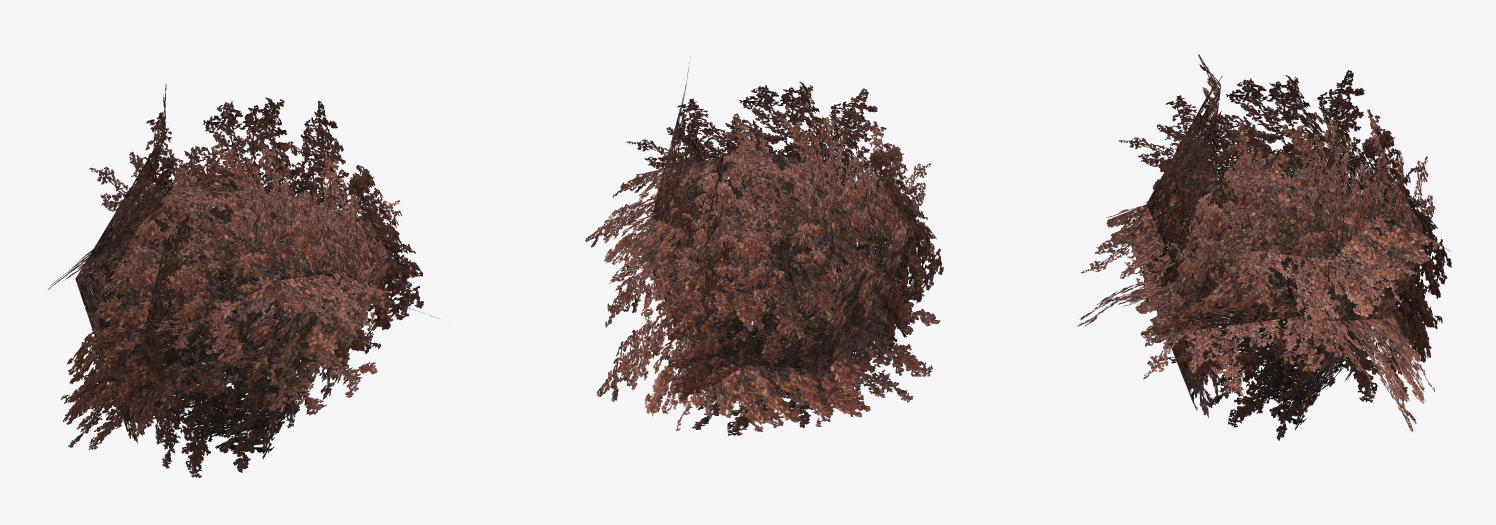
File: Red_Bush.fbx
3 views of the same model, side by side, from view 1: azimuth 30°, elevation 25°; view 2: azimuth 150°, elevation 25°; view 3: azimuth 270°, elevation 25° (orthographic). The views are drawn at different scales.
Visible parts, largest first — view 1: red_bush; view 2: red_bush; view 3: red_bush.
Boxes of the visible parts, x1,y1,x2,y2 form: red_bush: (48,84,437,477); red_bush: (585,57,943,435); red_bush: (1077,54,1451,440).
Bounding box in the file's own units: 1.85 × 1.66 × 1.66.
